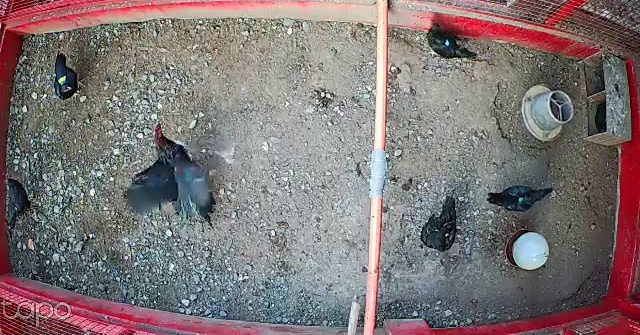Chicken: (484, 182, 556, 214), (420, 198, 461, 252), (424, 20, 477, 61), (4, 170, 34, 234), (50, 52, 87, 103)
Rooster: (116, 118, 224, 229)
Saddle_Color_Blue: (446, 39, 450, 46)
Saddle_Color_YellowGreen: (59, 76, 65, 87)
